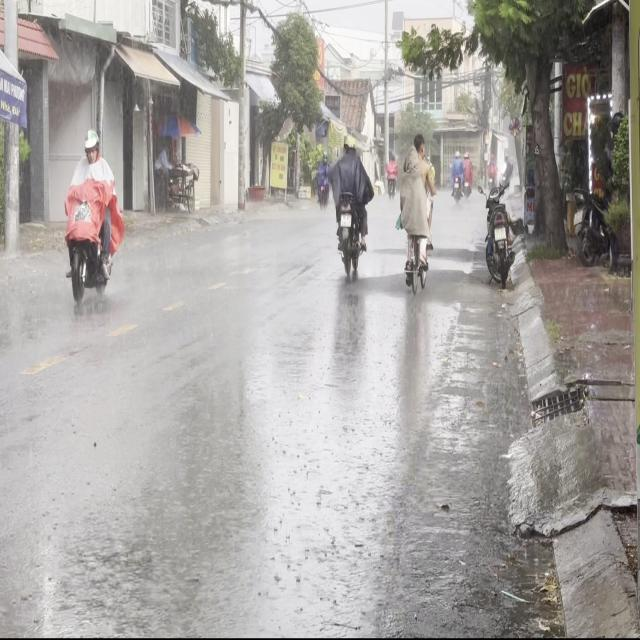helmet: (82, 128, 99, 158)
licenseplate: (60, 126, 124, 306)
